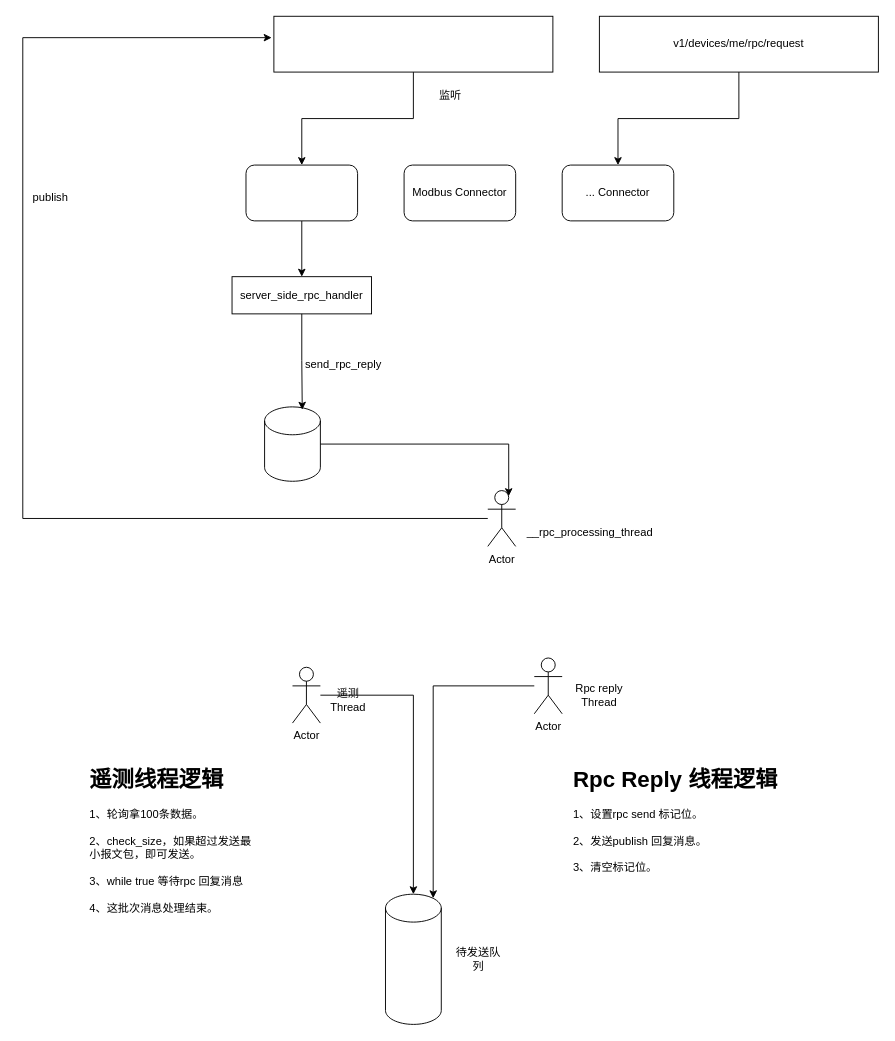
Image size: 895x1041. Some labels were removed from this diagram. Here are the shapes that lost their labels. From the top down, the centre of each, then its label:
At point (413, 43): "v1/gateway/rpc".
At point (301, 192): "S7 Connector".
At point (292, 443): "__rpc_processing_queue".
